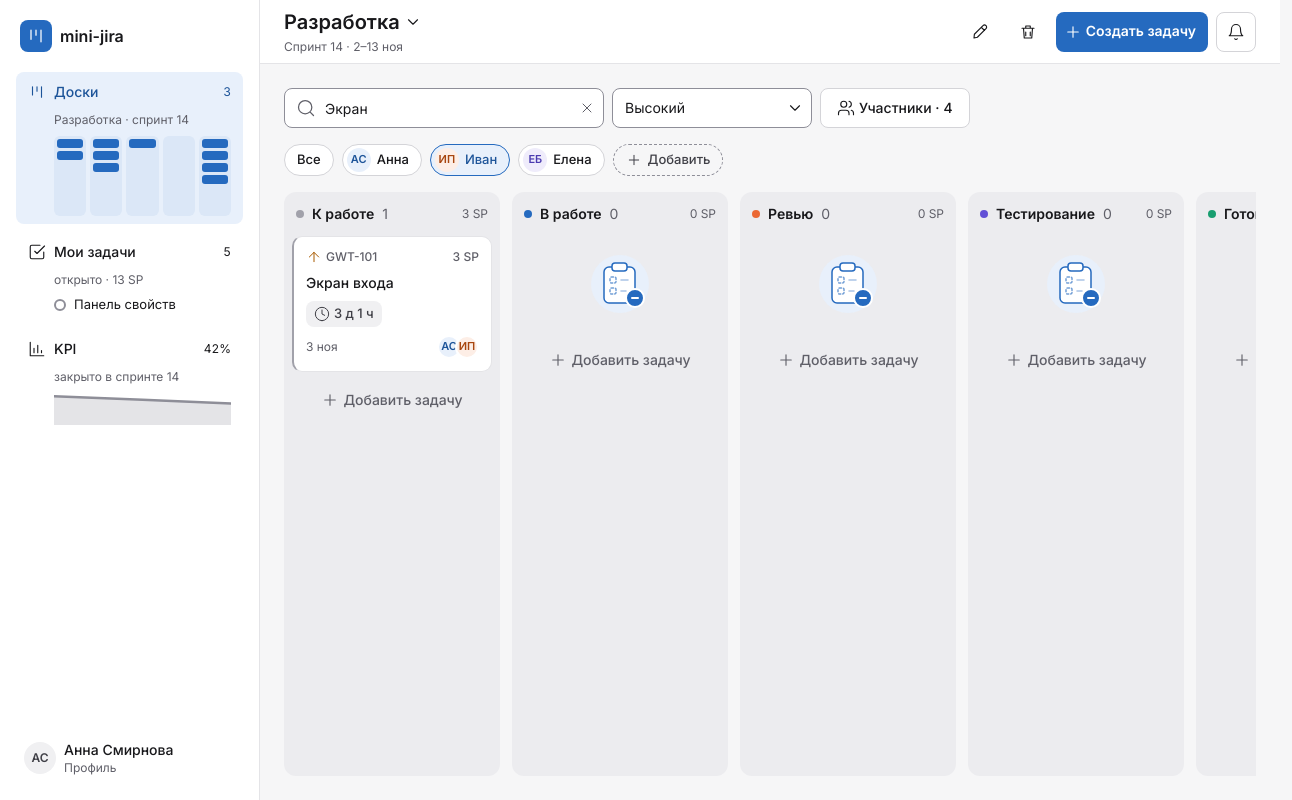
Scenario: сохранение фильтров доски › сброс фильтров возвращает все карточки и сохраняется при обновлении
Clear the search field named "Поиск по названию или ключу" at (444, 108), box [284,88,604,128]
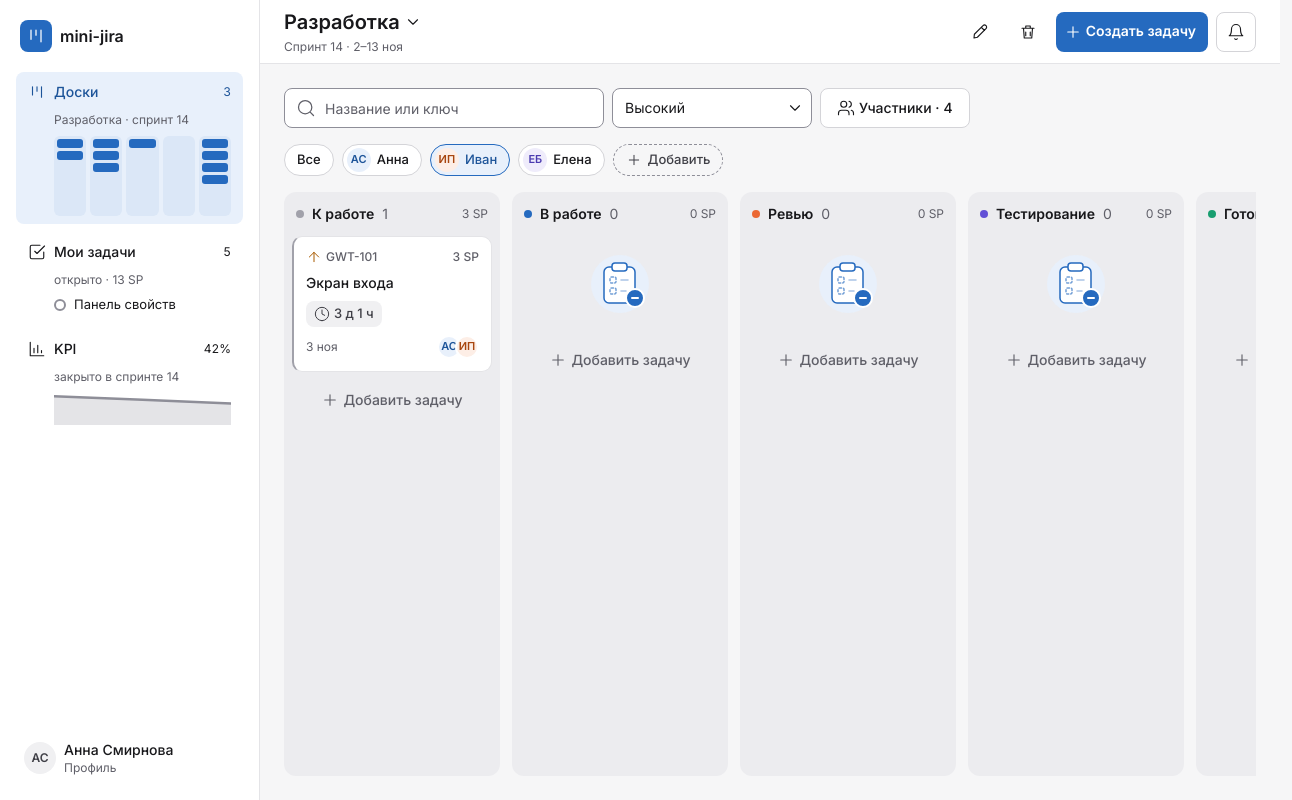
Select "Любой приоритет" in the dropdown named "Приоритет" at (712, 108), box [612,88,812,128]
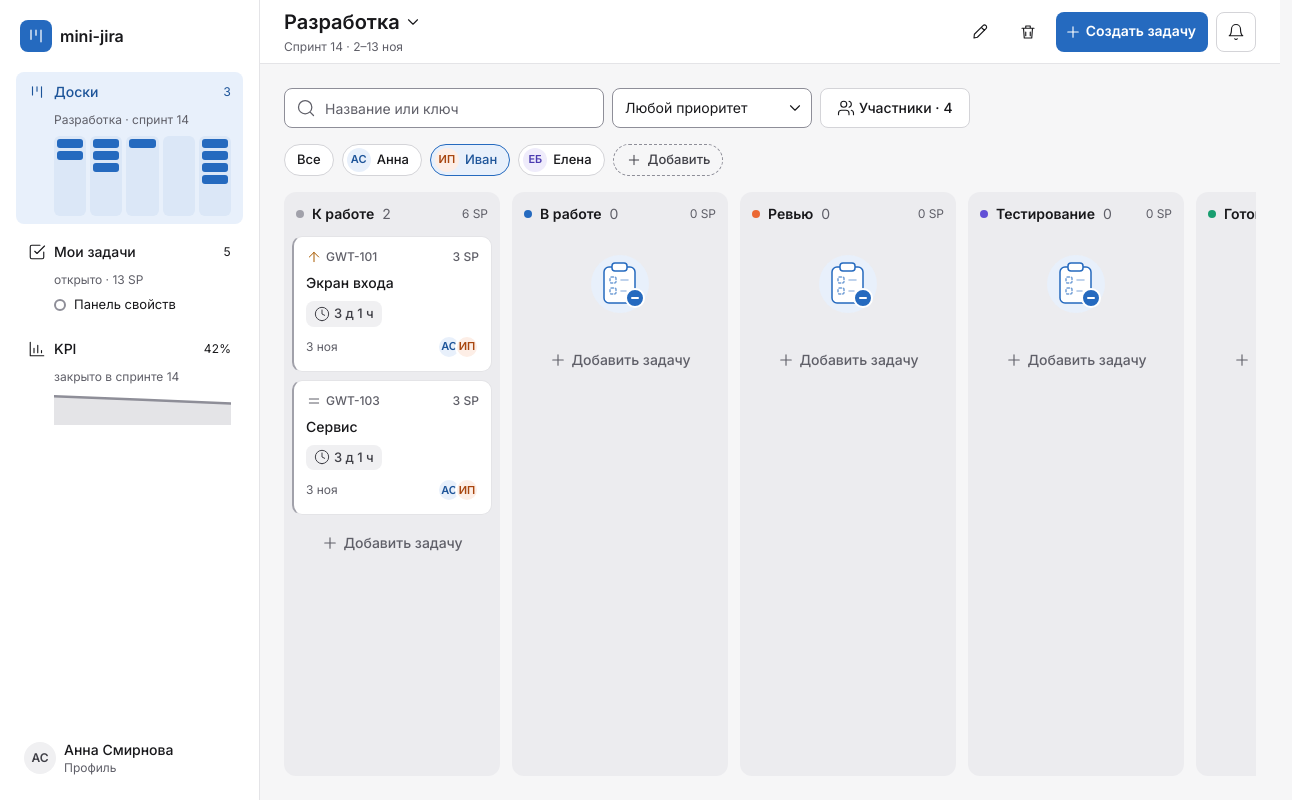
Click the button "Все".
click(309, 160)  # box [284,144,334,176]
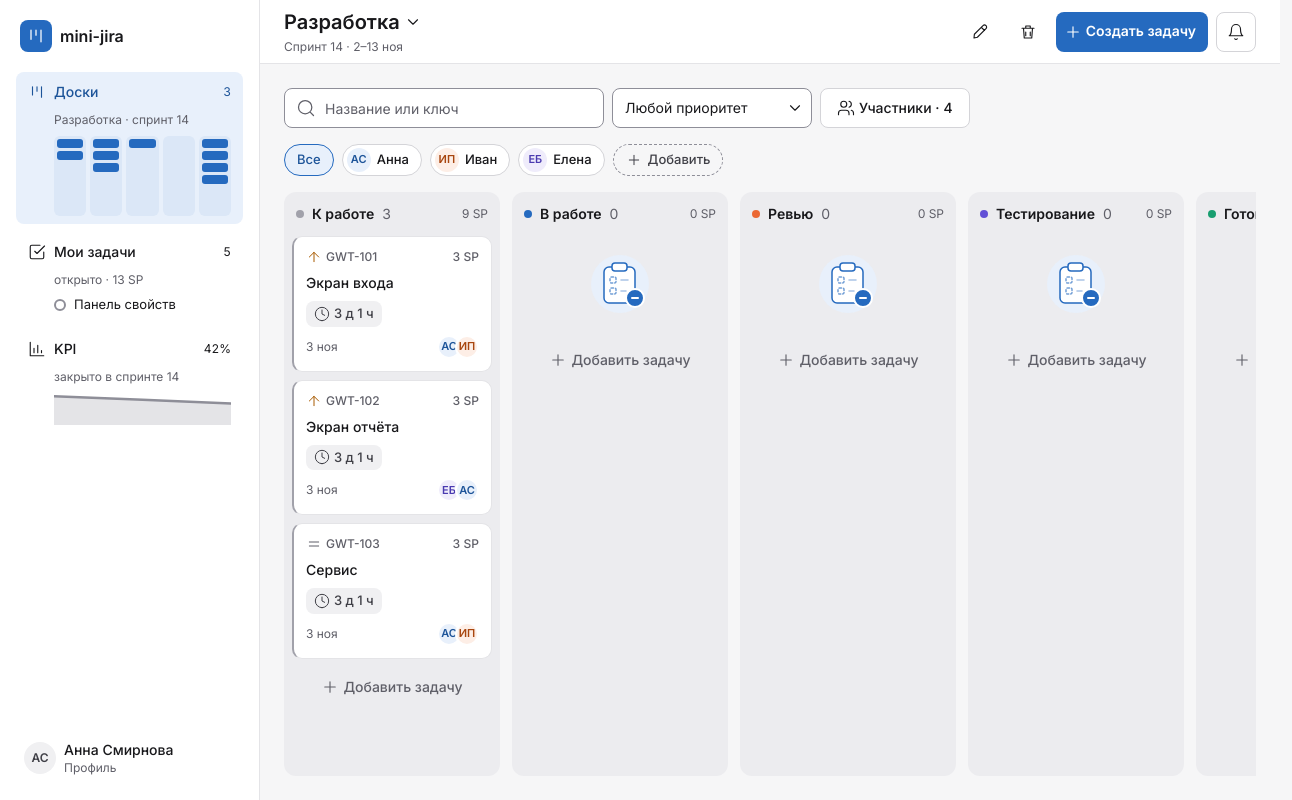
Expected: the link "Экран входа" is shown, [306,274,394,291]
Expected: the link "Сервис" is shown, [306,561,358,578]
Expected: the link "Экран отчёта" is shown, [306,418,399,435]
